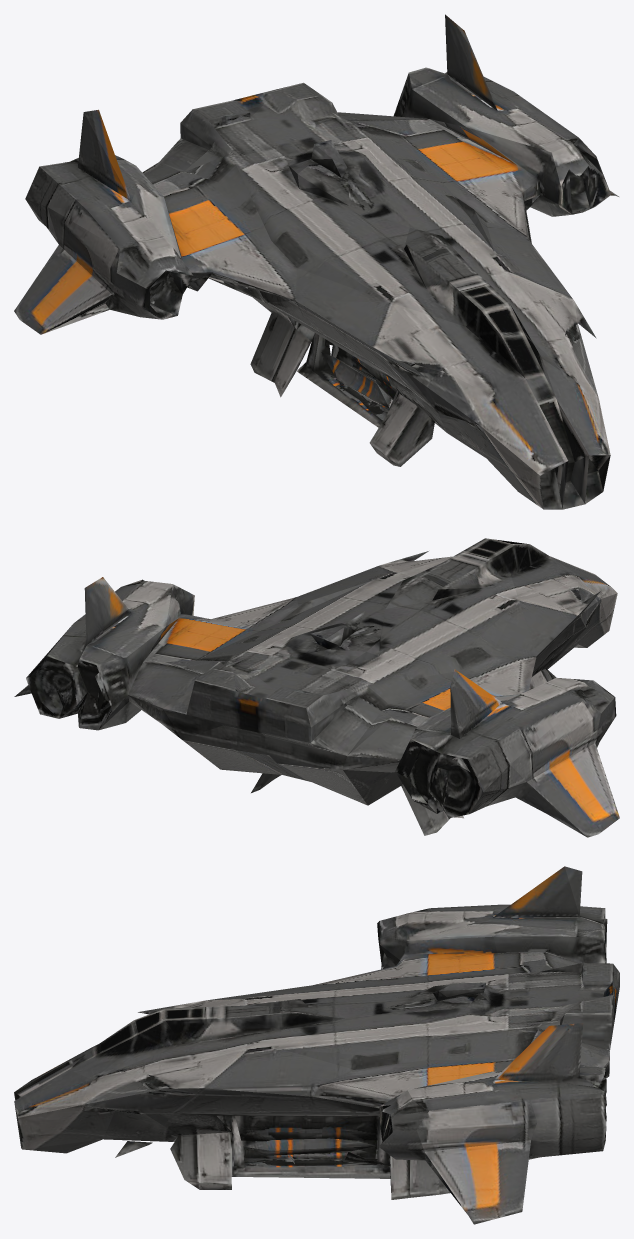
Rendered from bomber-low.glb.
3 renders of one model, top to bottom at view 1: azimuth 30°, elevation 25°; view 2: azimuth 150°, elevation 25°; view 3: azimuth 270°, elevation 25°, orthographic. The views are drawn at different scales.
Visible parts, largest first — view 1: Low; view 2: Low; view 3: Low.
Part boxes in pixels (x1,y1,x2,y2): Low: [14, 14, 618, 509]; Low: [14, 538, 619, 837]; Low: [14, 866, 619, 1224].
Size of the model in its own units: 1.62 by 0.6389 by 1.62.
1 material, 1 textured.
